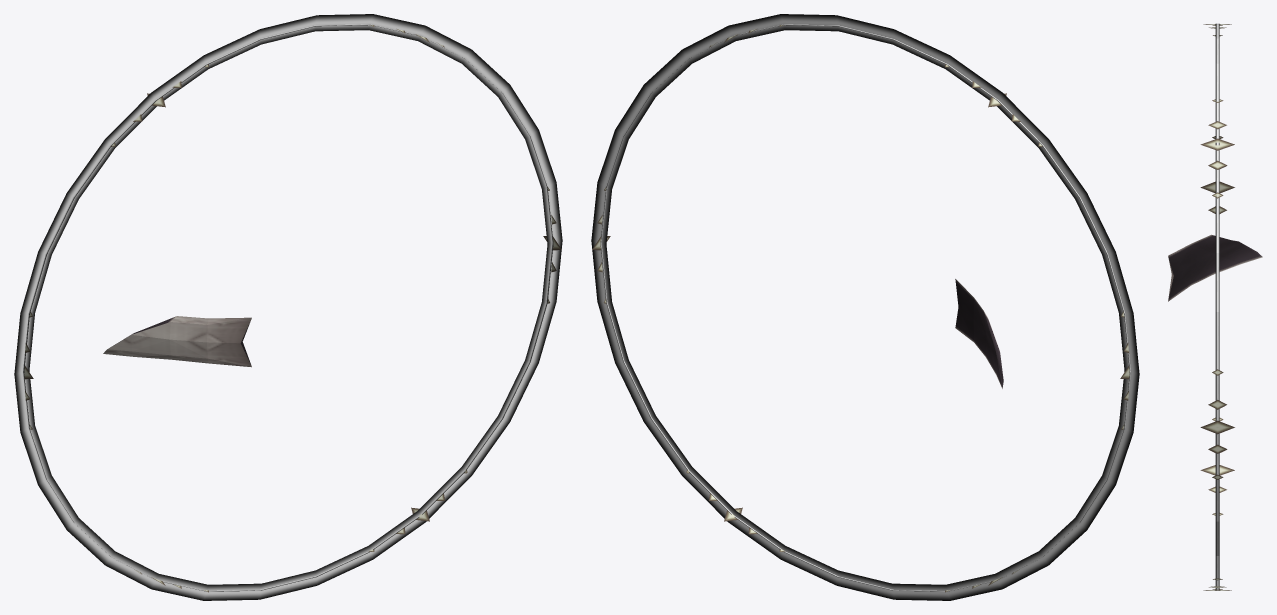
3 views of the same model, side by side, from view 1: azimuth 30°, elevation 25°; view 2: azimuth 150°, elevation 25°; view 3: azimuth 270°, elevation 25° (orthographic). The views are drawn at different scales.
Visible parts, largest first — view 1: B_0156_3b_1, B_0156_3b_0; view 2: B_0156_3b_1, B_0156_3b_0; view 3: B_0156_3b_1, B_0156_3b_0.
Part boxes in pixels (x1,y1,x2,y2): B_0156_3b_1: (14, 14, 562, 600); B_0156_3b_0: (103, 316, 251, 367); B_0156_3b_1: (591, 14, 1139, 600); B_0156_3b_0: (955, 279, 1003, 388); B_0156_3b_1: (1200, 23, 1234, 590); B_0156_3b_0: (1168, 234, 1262, 301).
Bounding box in the file's own units: 5.22 × 5.19 × 0.8412.
